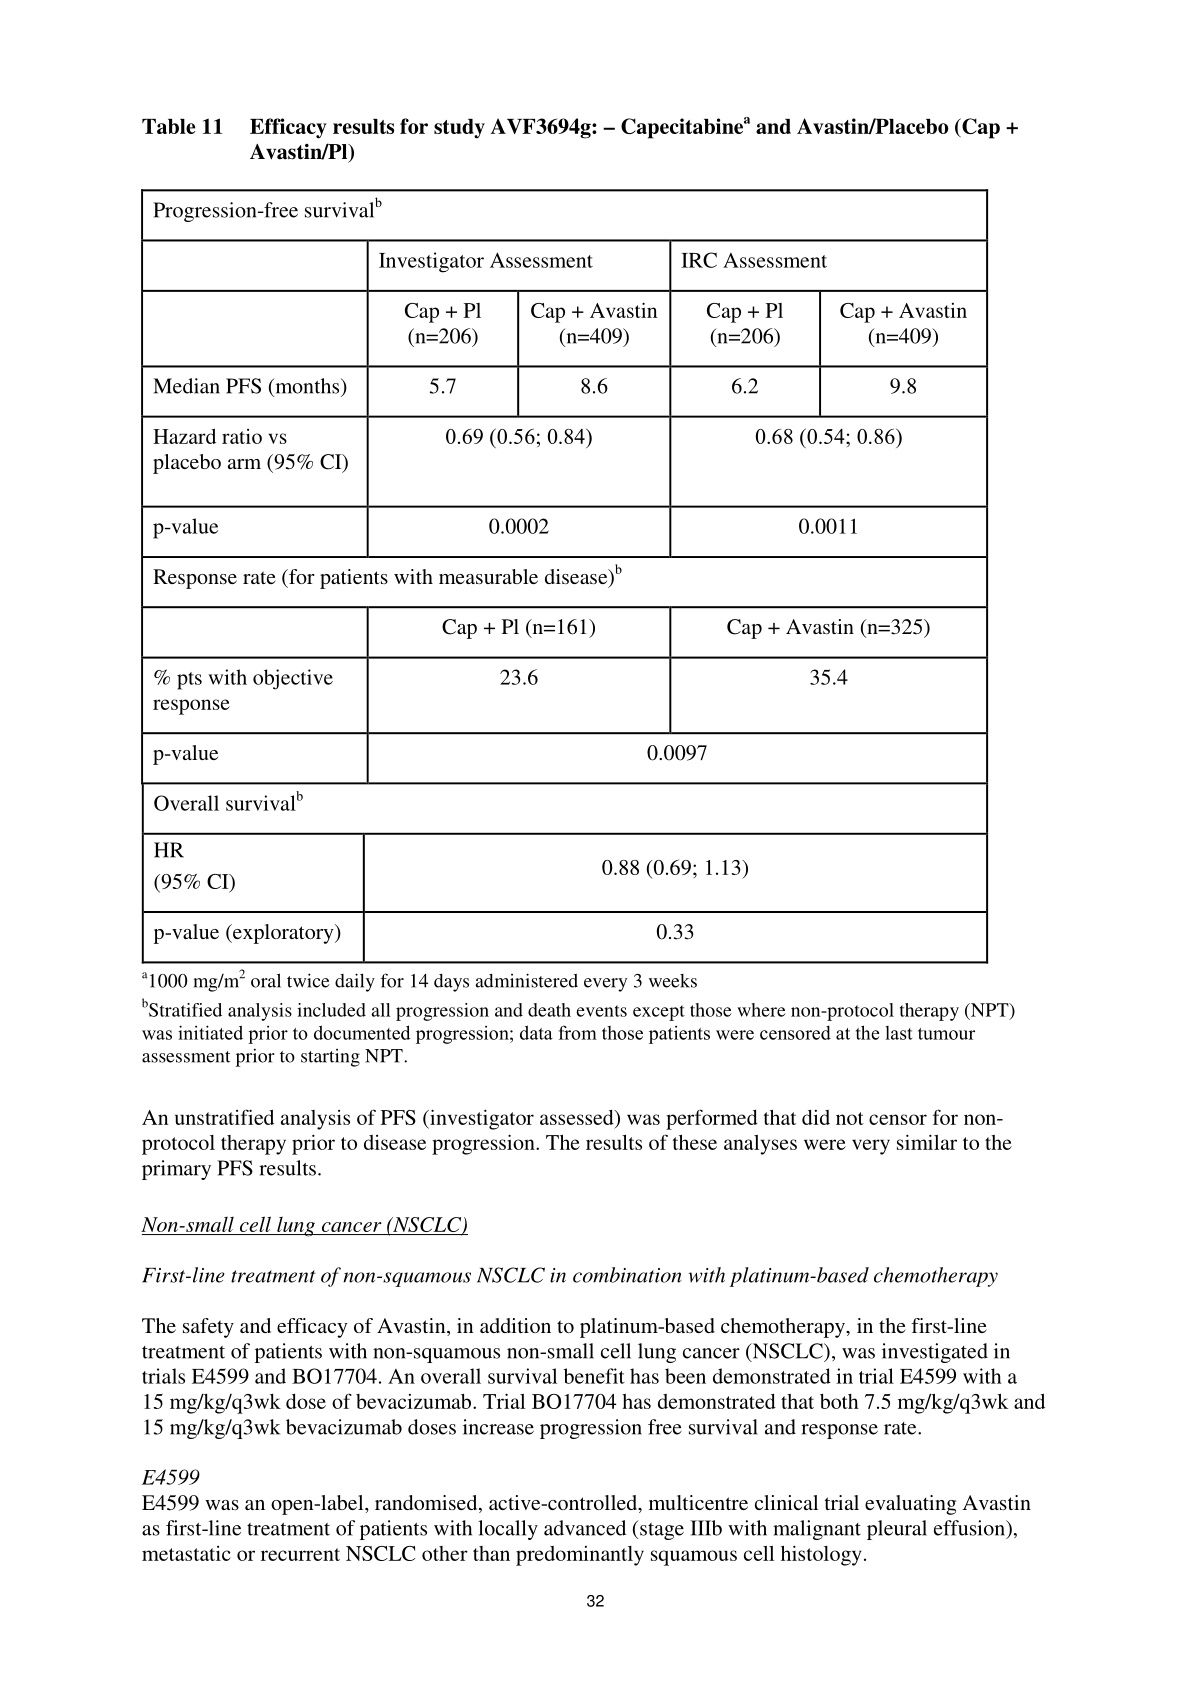merged_cells: (139, 188, 989, 966)
